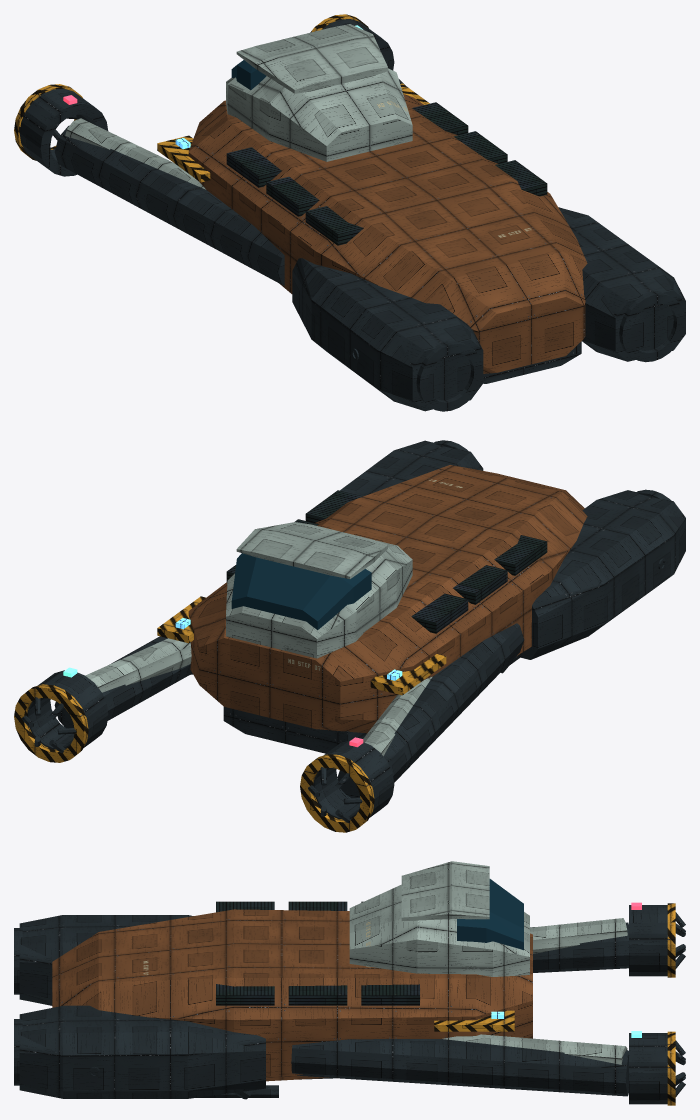
Rendered from ship_mole.glb.
The picture shows the model from 3 angles, top to bottom: view 1: azimuth 30°, elevation 25°; view 2: azimuth 150°, elevation 25°; view 3: azimuth 270°, elevation 25°; orthographic projection. The views are drawn at different scales.
Parts seen in each view (by area): view 1: Bronze, Frame, Cream, Thermal, Safety, Glass; view 2: Bronze, Frame, Cream, Safety, Glass, Thermal; view 3: Frame, Bronze, Cream, Thermal, Glass, Safety.
Boxes of the visible parts, x1=… form: Bronze: x1=188, y1=94, x2=587, y2=373; Frame: x1=19, y1=19, x2=685, y2=411; Cream: x1=65, y1=24, x2=412, y2=189; Thermal: x1=226, y1=102, x2=547, y2=245; Safety: x1=14, y1=14, x2=429, y2=182; Glass: x1=231, y1=60, x2=266, y2=90; Bronze: x1=188, y1=465, x2=587, y2=733; Frame: x1=22, y1=440, x2=685, y2=822; Cream: x1=85, y1=522, x2=432, y2=756; Safety: x1=14, y1=596, x2=446, y2=832; Glass: x1=231, y1=553, x2=371, y2=630; Thermal: x1=226, y1=490, x2=547, y2=633; Frame: x1=14, y1=905, x2=685, y2=1104; Bronze: x1=52, y1=909, x2=532, y2=1081; Cream: x1=349, y1=861, x2=627, y2=1064; Thermal: x1=216, y1=901, x2=419, y2=1005; Glass: x1=457, y1=879, x2=523, y2=950; Safety: x1=434, y1=903, x2=675, y2=1105.
Size of the model in its own units: 10.62 by 5.62 by 18.88.
9 materials, 7 textured.
